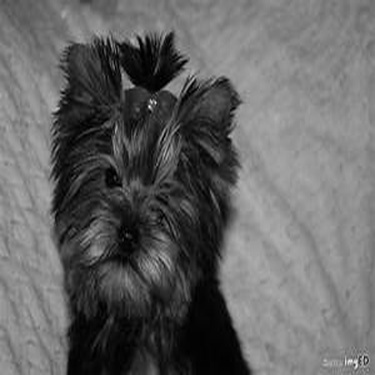dog: (18, 16, 265, 371)
